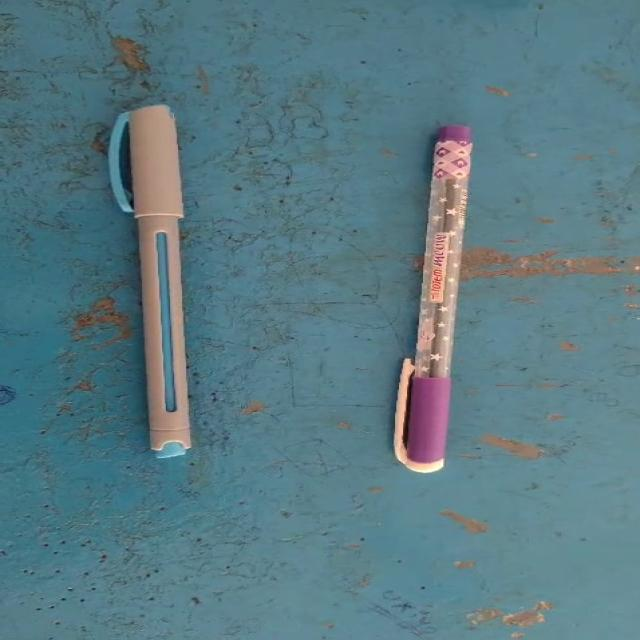pen: (78, 91, 264, 478), (369, 106, 528, 492)
